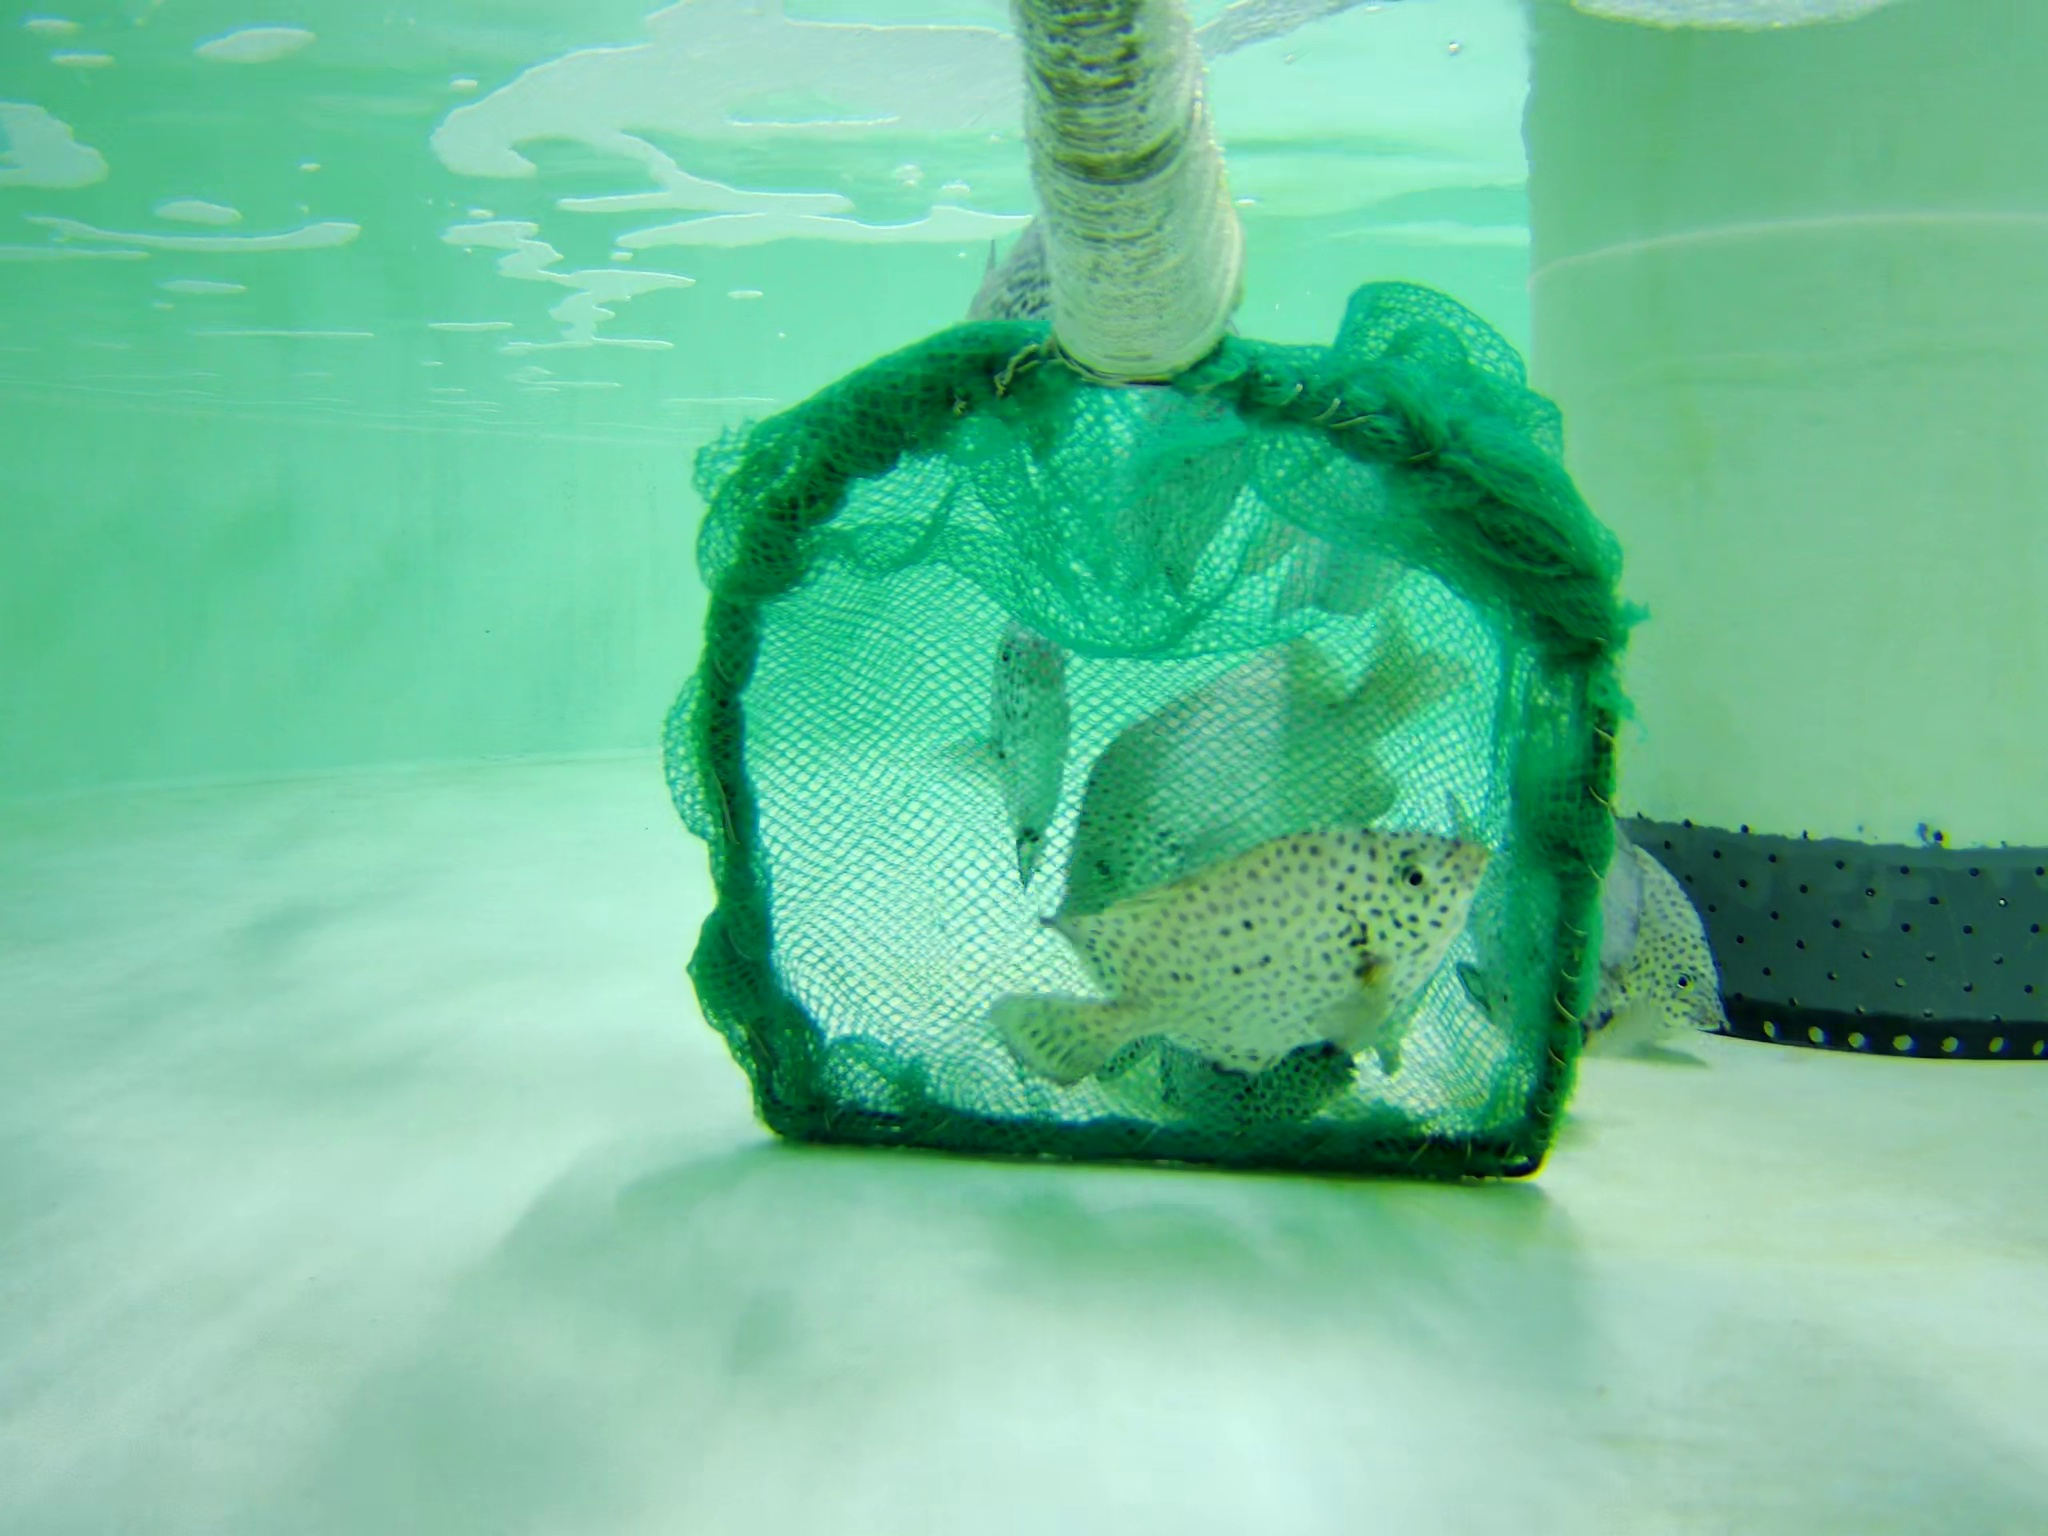fish: (1034, 603, 1477, 928), (989, 808, 1461, 1107), (1437, 792, 1734, 1073), (958, 581, 1077, 878), (1155, 1036, 1355, 1142)
